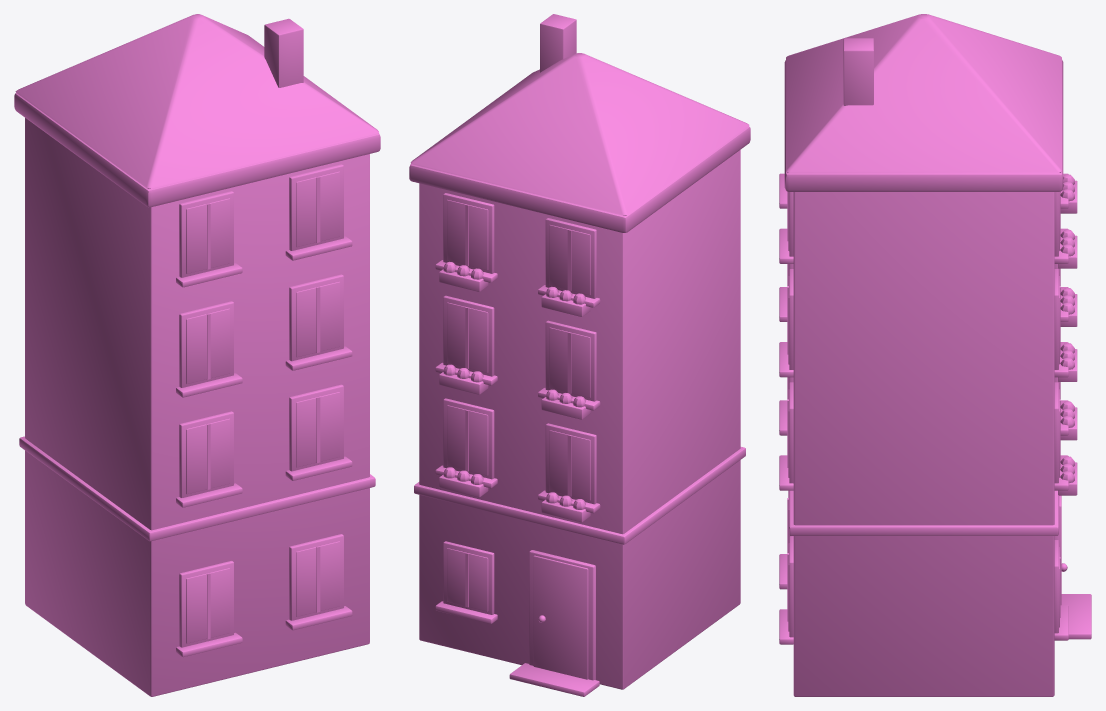
File: OldTown_Townhouse.fbx
3 renders of one model, left to right at view 1: azimuth 30°, elevation 25°; view 2: azimuth 150°, elevation 25°; view 3: azimuth 270°, elevation 25°, orthographic. The views are drawn at different scales.
Parts seen in each view (by area): view 1: Paint, Body; view 2: Paint, Body; view 3: Paint, Body.
Boxes of the visible parts, left/top/right/bottom form: Paint: left=25, top=118, right=369, bottom=696; Body: left=14, top=14, right=380, bottom=657; Paint: left=419, top=150, right=740, bottom=689; Body: left=409, top=14, right=750, bottom=696; Paint: left=793, top=192, right=1054, bottom=696; Body: left=779, top=14, right=1091, bottom=644.
Bounding box in the file's own units: 12.8 × 31.9 × 14.35.
Materials: 1 (1 with a texture image).
